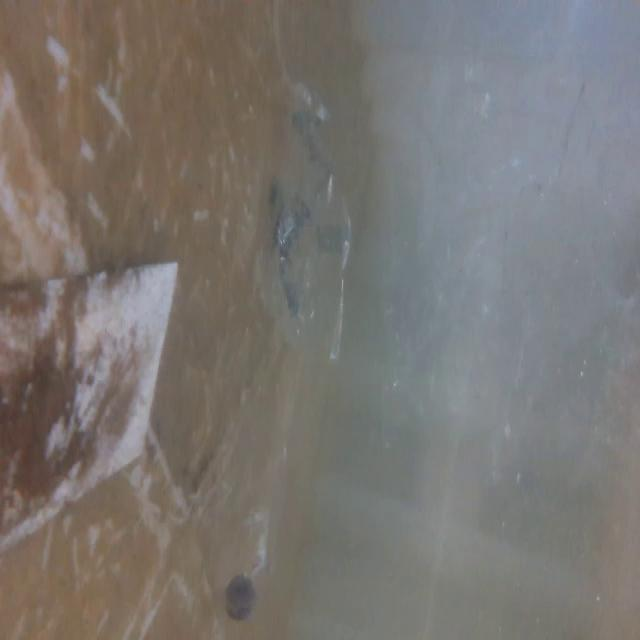metal: (0, 256, 194, 555)
plastic bags: (391, 0, 629, 551), (255, 72, 356, 380)
plastic bottle: (204, 363, 286, 625)
